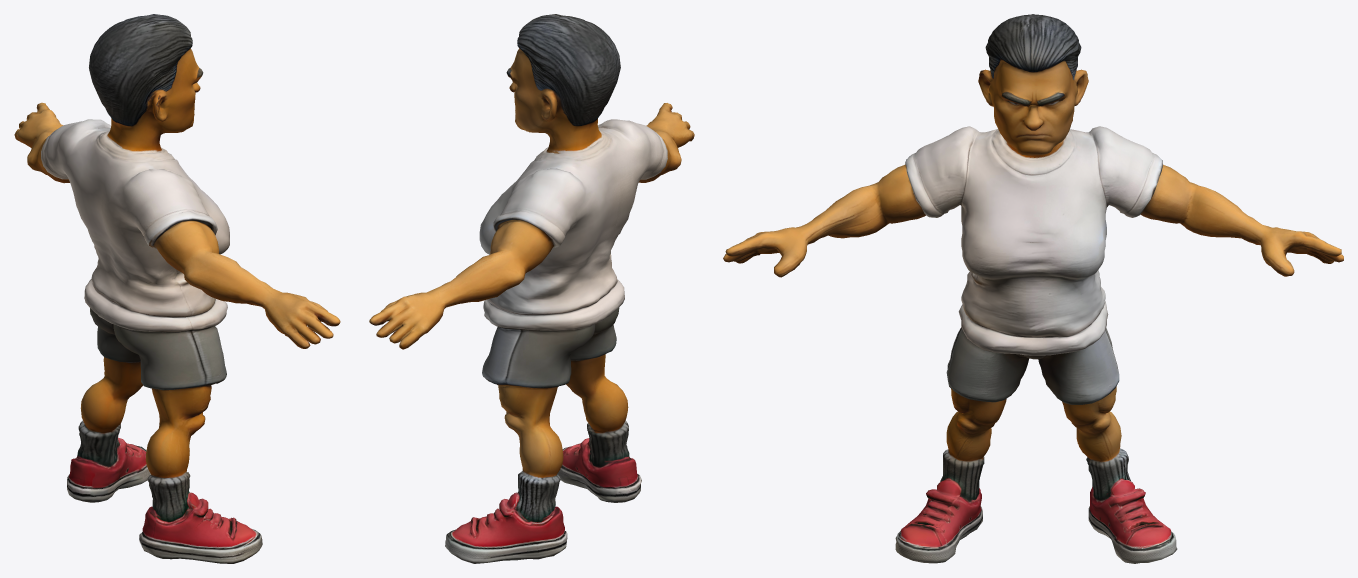
The picture shows the model from 3 angles, left to right: view 1: azimuth 30°, elevation 25°; view 2: azimuth 150°, elevation 25°; view 3: azimuth 270°, elevation 25°; orthographic projection. The views are drawn at different scales.
Parts seen in each view (by area): view 1: tripo_node_12571bee; view 2: tripo_node_12571bee; view 3: tripo_node_12571bee.
Part boxes in pixels (x1=…): tripo_node_12571bee: x1=14, y1=14, x2=340, y2=563; tripo_node_12571bee: x1=369, y1=14, x2=694, y2=563; tripo_node_12571bee: x1=723, y1=14, x2=1343, y2=563.
Size of the model in its own units: 22.9 by 92.17 by 100.
Materials: 1 (1 with a texture image).
